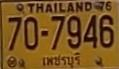0: (23, 16, 38, 49)
4: (83, 14, 96, 48)
6: (99, 14, 113, 47)
7: (7, 16, 21, 50), (51, 15, 64, 49)
9: (66, 15, 80, 48)
PBI: (41, 51, 80, 68)
